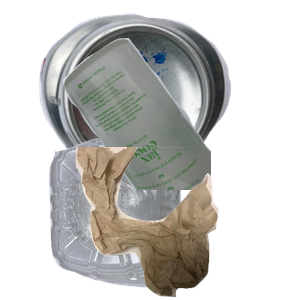glass: (60, 36, 300, 216)
metal: (37, 11, 261, 180)
plastic: (46, 130, 227, 300)
trash: (73, 147, 300, 300)
